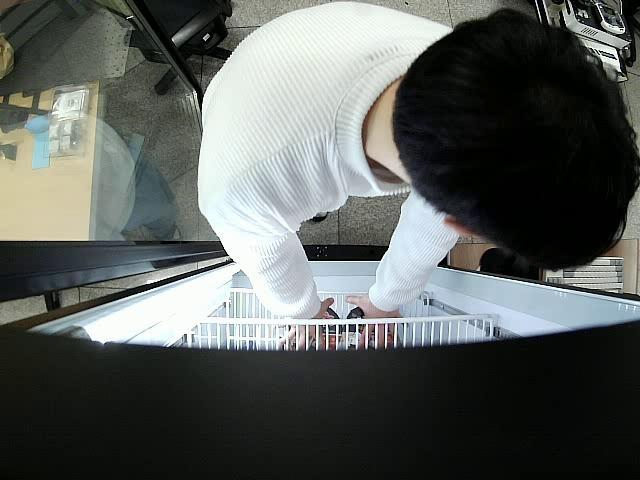07_buldak_L: (292, 310, 340, 349), (342, 306, 380, 353)
